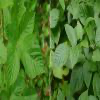Raspberry leaf: (20, 35, 47, 79), (6, 44, 20, 88), (51, 44, 71, 69), (19, 10, 36, 39), (70, 61, 84, 96), (63, 24, 78, 48), (82, 58, 92, 89), (69, 45, 80, 71), (77, 19, 83, 41)
